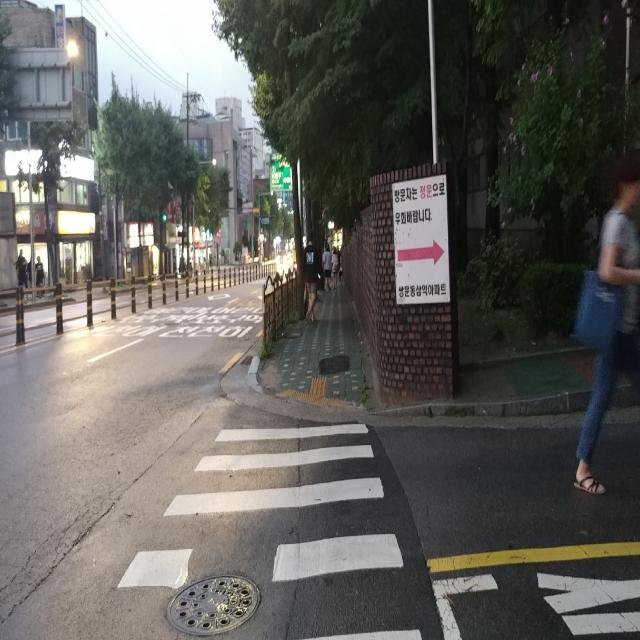횡단보도: (114, 418, 425, 636)
